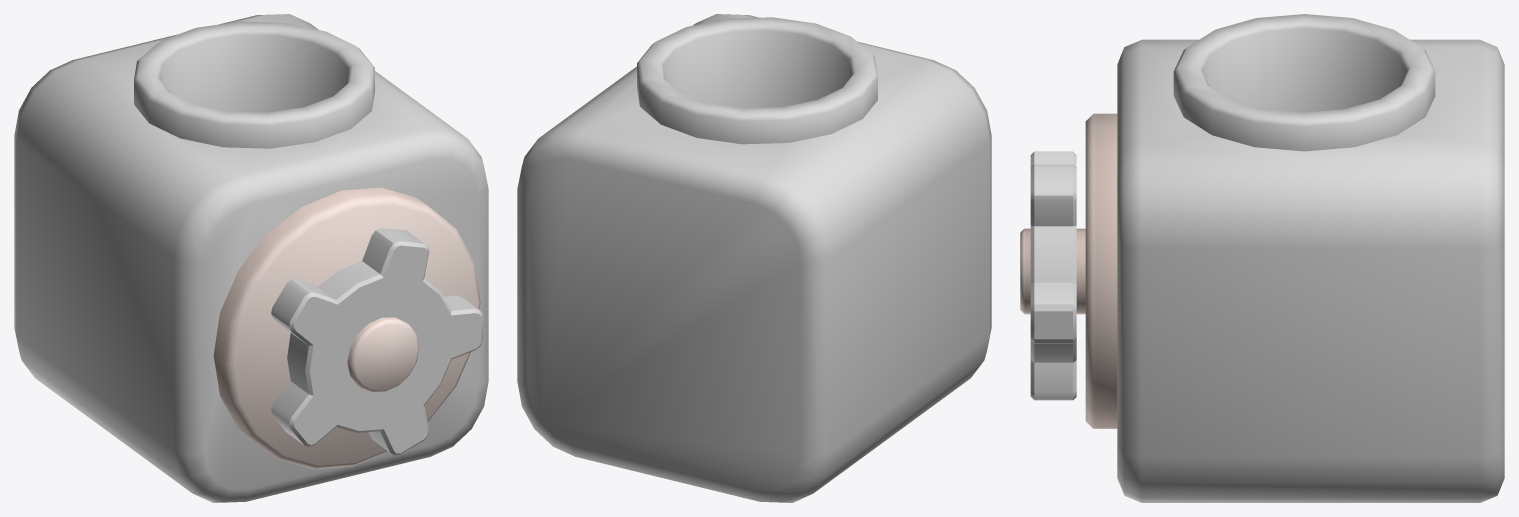
File: GP_Machine.fbx
3 renders of one model, left to right at view 1: azimuth 30°, elevation 25°; view 2: azimuth 150°, elevation 25°; view 3: azimuth 270°, elevation 25°, orthographic. The views are drawn at different scales.
Parts seen in each view (by area): view 1: Machine, Gears; view 2: Machine; view 3: Machine, Gears.
Part boxes in pixels (x1,y1,x2,y2): Machine: (14,14,488,502); Gears: (271,228,482,455); Machine: (517,14,991,502); Machine: (1020,14,1504,502); Gears: (1030,151,1076,400).
Size of the model in its own units: 0.8621 by 0.9307 by 1.08.
2 materials, 1 textured.
